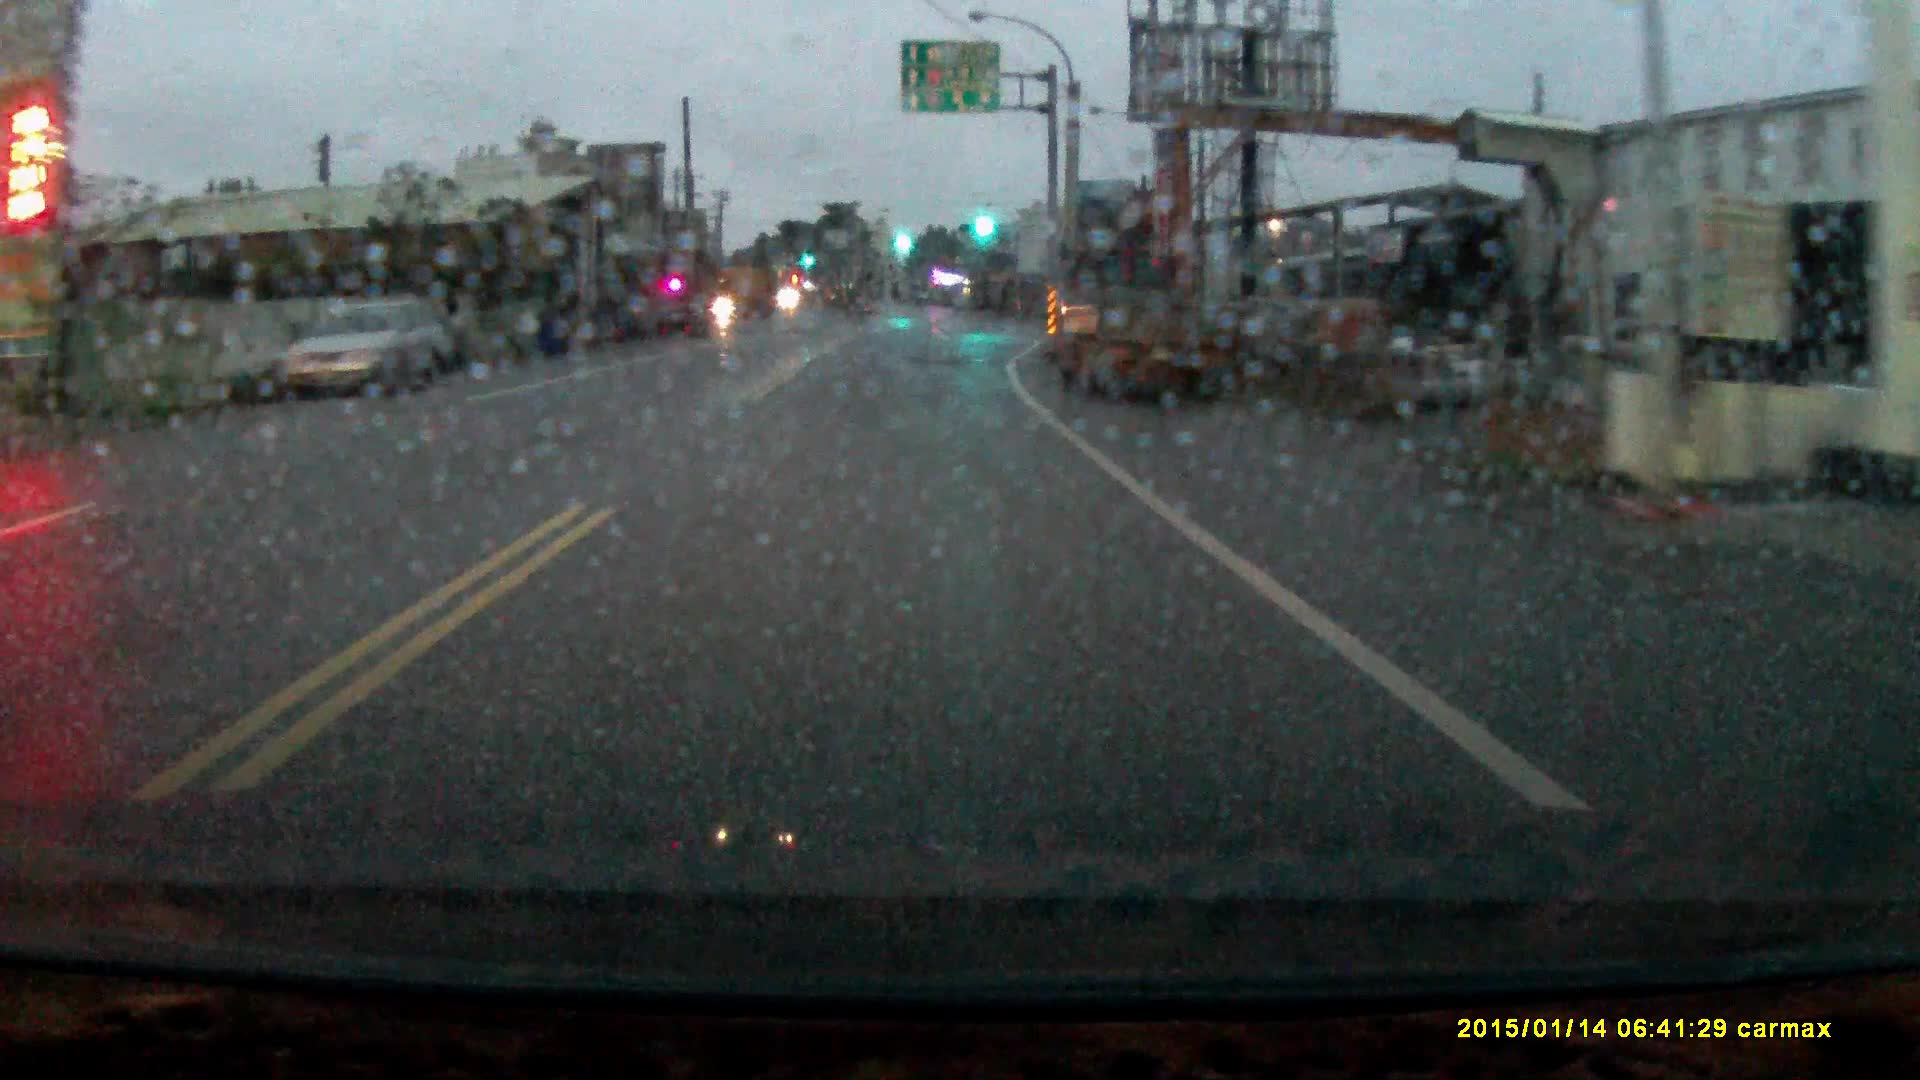vehicle: (1044, 245, 1197, 404), (277, 297, 447, 396), (709, 264, 777, 318)
